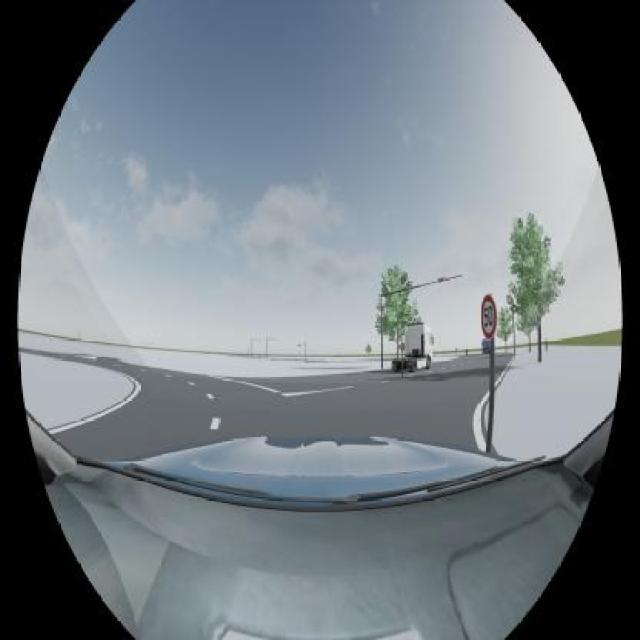forb_speed_over_50: (481, 295, 498, 340)
forb_speed_over_60: (398, 342, 405, 353)
